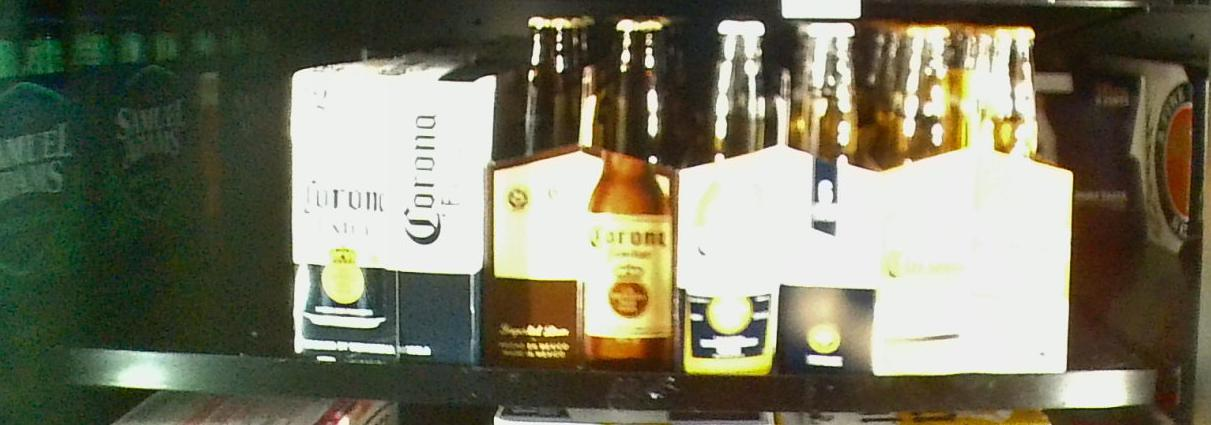bottle: (682, 17, 878, 383), (879, 17, 1073, 376), (492, 14, 678, 373), (288, 71, 484, 365)
